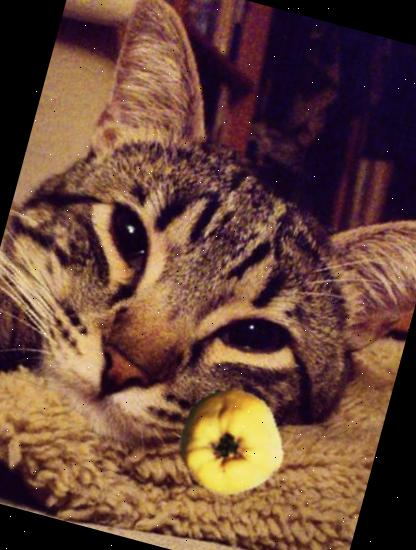Quince: (165, 376, 298, 509)
